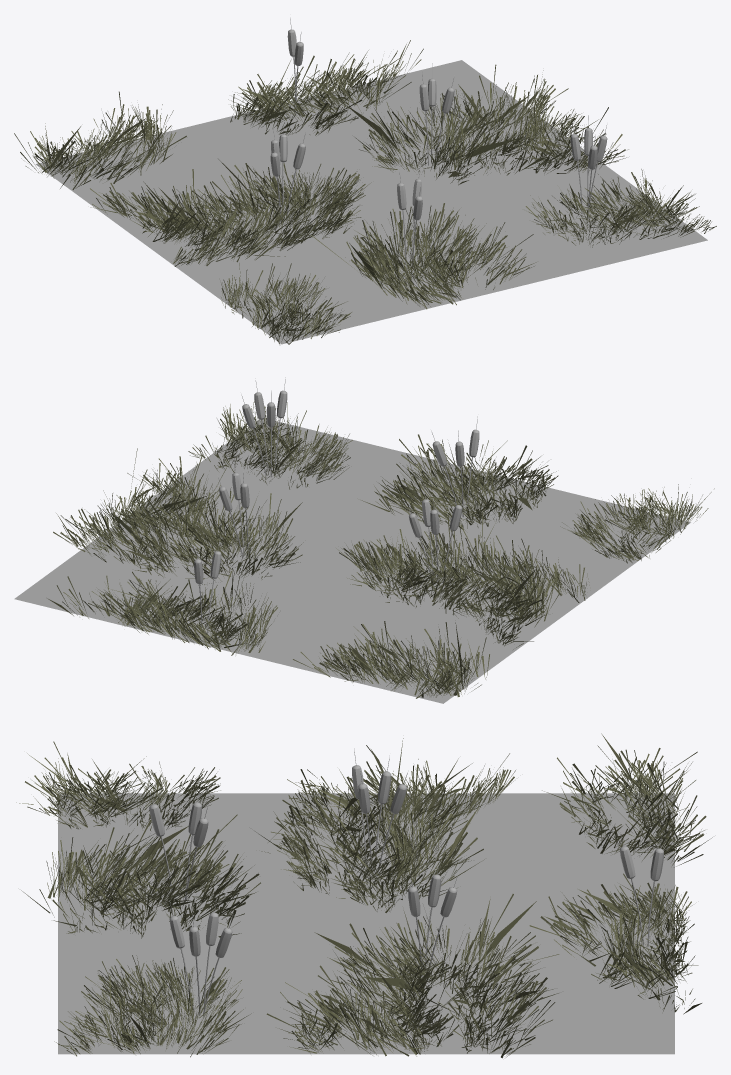
Rendered from Marsh.fbx.
The picture shows the model from 3 angles, top to bottom: view 1: azimuth 30°, elevation 25°; view 2: azimuth 150°, elevation 25°; view 3: azimuth 270°, elevation 25°; orthographic projection. The views are drawn at different scales.
Parts seen in each view (by area): view 1: pPlane2; view 2: pPlane2; view 3: pPlane2.
Part boxes in pixels (left/top/right/bottom): pPlane2: left=14, top=17, right=716, bottom=344; pPlane2: left=14, top=377, right=714, bottom=703; pPlane2: left=16, top=733, right=712, bottom=1058.
Size of the model in its own units: 11.04 by 2.26 by 11.14.
